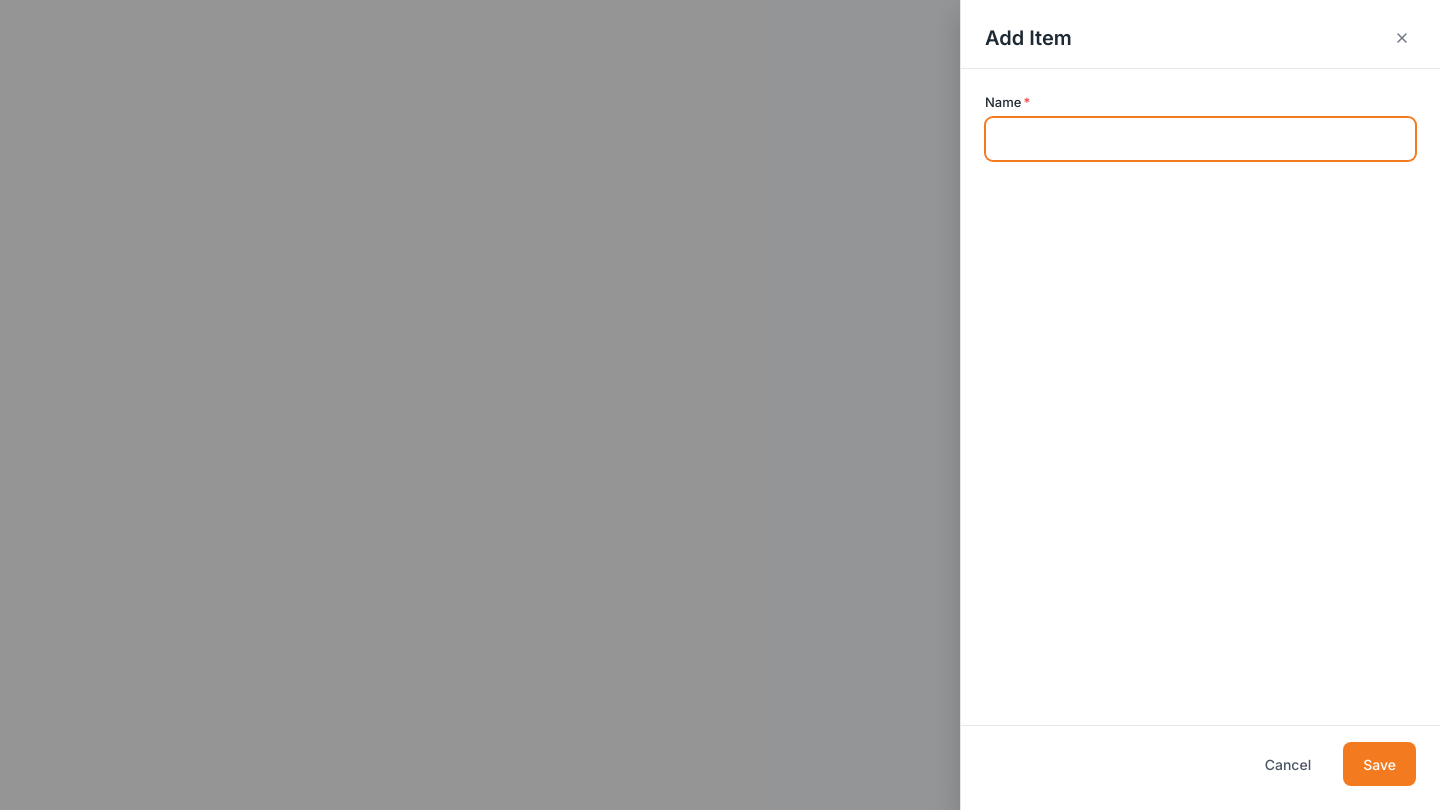
FormDrawer › form submission › shows validation errors when submitting empty required field
The image size is (1440, 810).
Click the button with test id "form-drawer-submit": coordinates (1380, 764) [1343,742,1416,786]
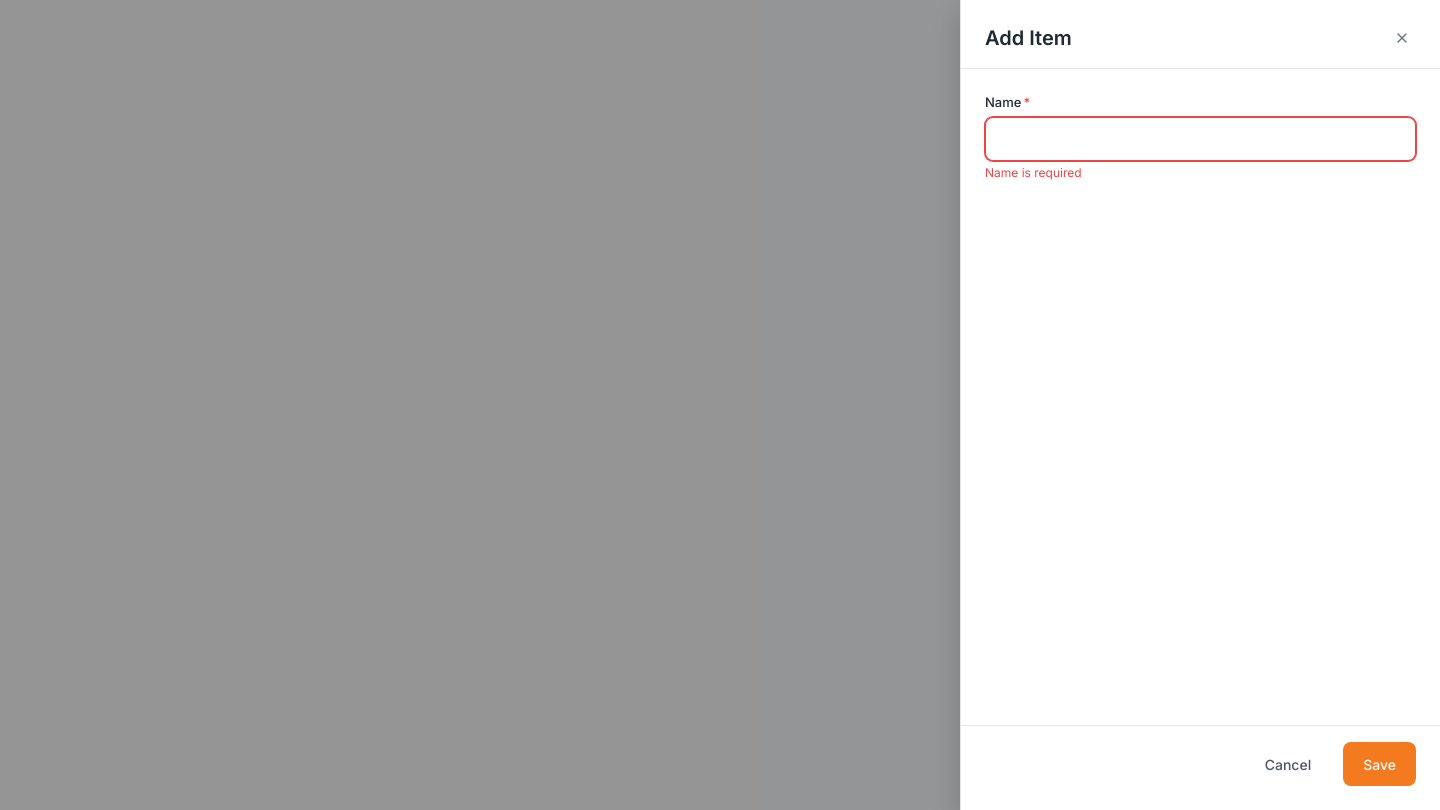
Expected: the text "Name is required" is shown, [985,165,1082,180]
